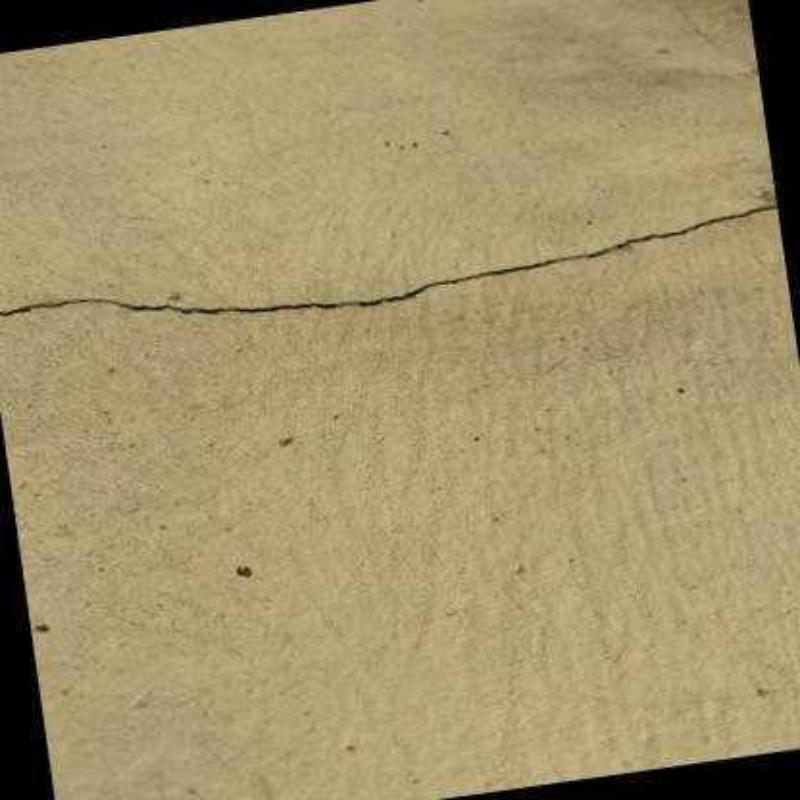pothole: (0, 206, 777, 316)
